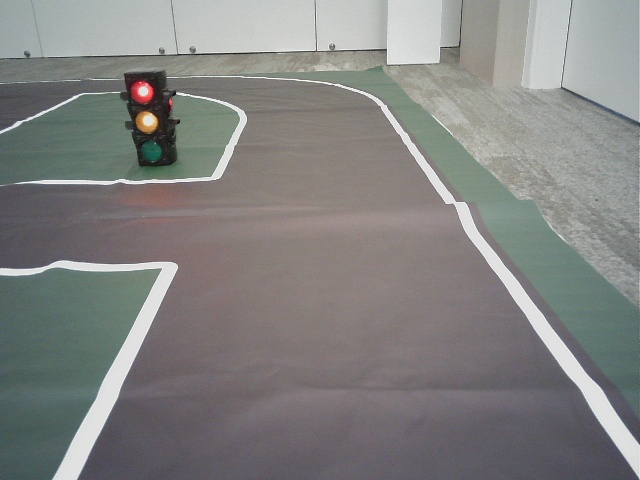red: (126, 75, 166, 162)
